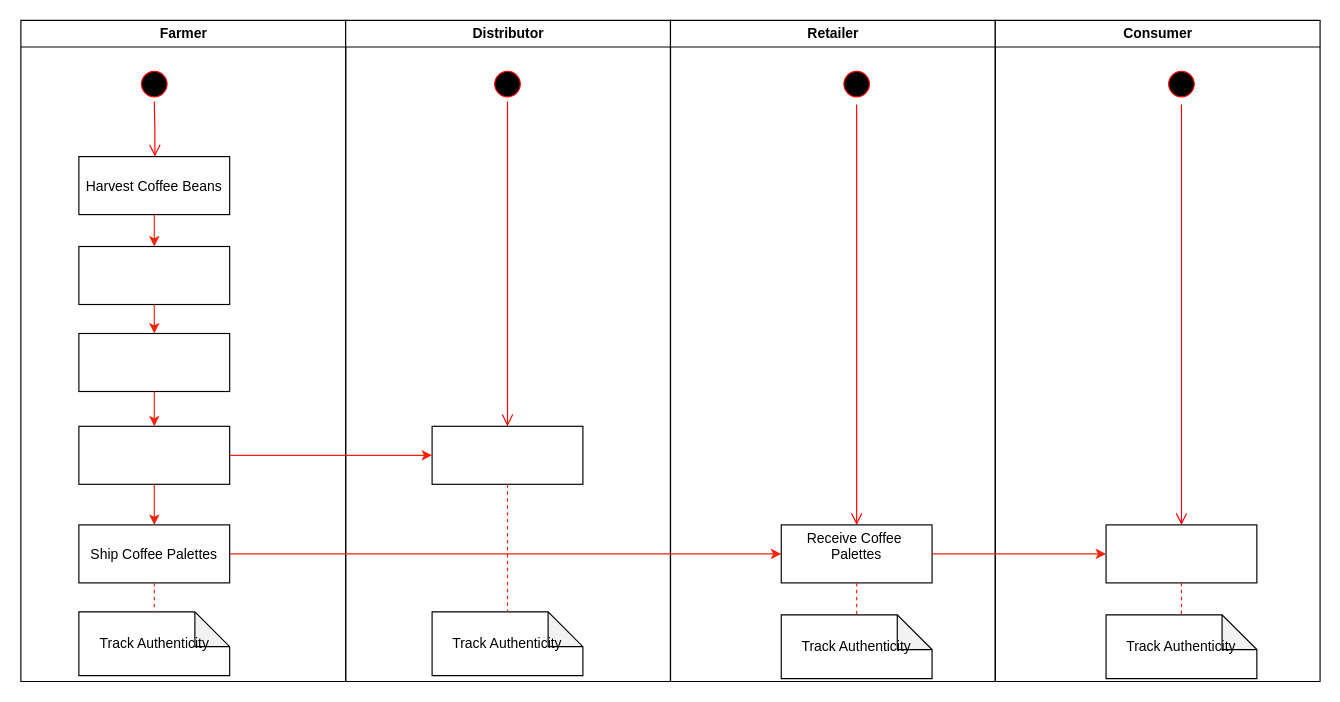
This 1340x702 diagram has some shape labels left out. The centre of each missing label's shape, as x and y in pixels:
Add Coffee Palettes: (154,454)
Buy Coffee Bags: (1181,553)
Buy Coffee Palettes: (507,454)
Pack Coffee Bags /Palettes: (154,362)
Process Coffee Beans: (154,274)
